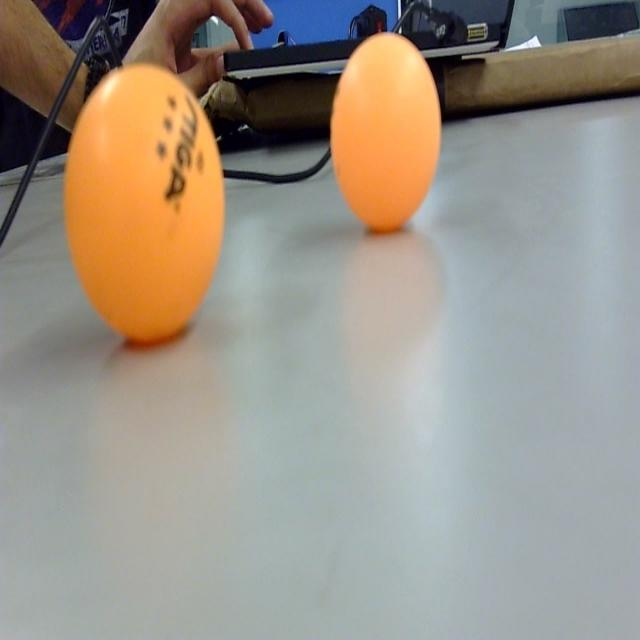ball: (63, 52, 228, 347), (329, 32, 442, 237)
